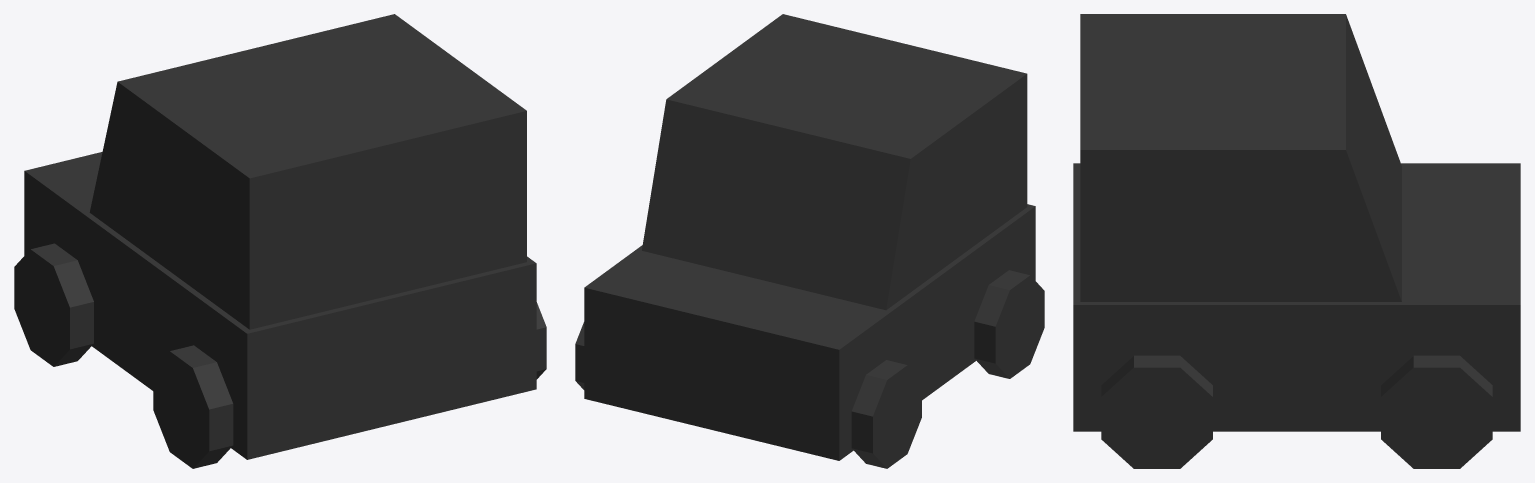
The model's file is car1.obj.
The picture shows the model from 3 angles, left to right: view 1: azimuth 30°, elevation 25°; view 2: azimuth 150°, elevation 25°; view 3: azimuth 270°, elevation 25°; orthographic projection. The views are drawn at different scales.
Parts seen in each view (by area): view 1: cuboid, cylinder; view 2: cuboid, cylinder; view 3: cuboid, cylinder.
Boxes of the visible parts, <box> form: cuboid: <box>24,14,536,459</box>; cylinder: <box>14,243,546,468</box>; cuboid: <box>584,14,1035,460</box>; cylinder: <box>575,270,1044,468</box>; cuboid: <box>1073,14,1520,431</box>; cylinder: <box>1101,355,1492,468</box>.
Bounding box in the file's own units: 0.875 × 0.75 × 1.
3 materials, 3 textured.
